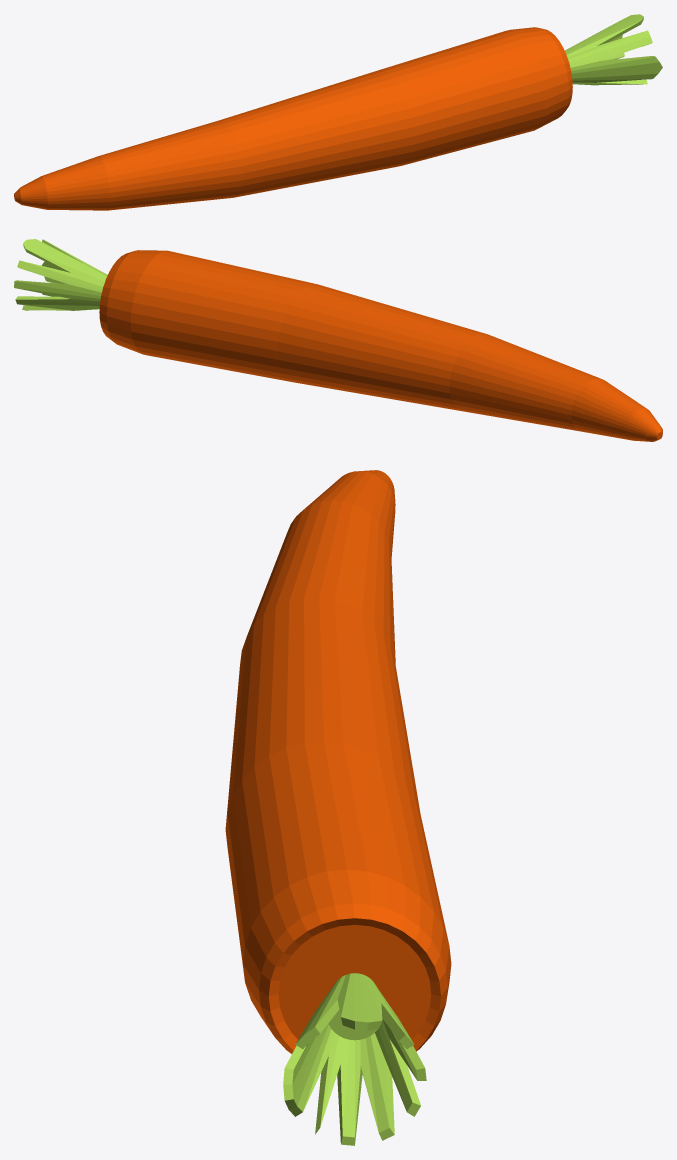
Rendered from carrot.fbx.
The picture shows the model from 3 angles, top to bottom: view 1: azimuth 30°, elevation 25°; view 2: azimuth 150°, elevation 25°; view 3: azimuth 270°, elevation 25°; orthographic projection. The views are drawn at different scales.
Visible parts, largest first — view 1: Cylinder; view 2: Cylinder; view 3: Cylinder.
Part boxes in pixels (x1,y1,x2,y2): Cylinder: (14,14,662,210); Cylinder: (14,239,662,441); Cylinder: (225,470,451,1145).
Bounding box in the file's own units: 1309 × 189 × 205.
